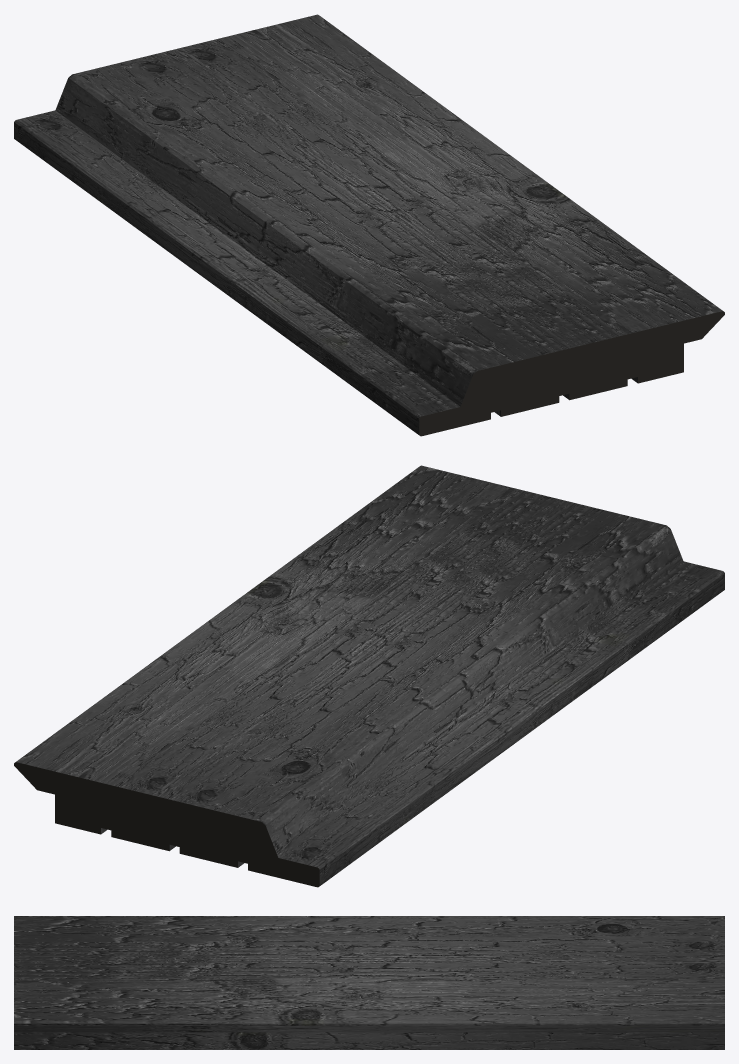
Rendered from spruce-facade-half-tenon-45-carbon.glb.
3 views of the same model, one above another, from view 1: azimuth 30°, elevation 25°; view 2: azimuth 150°, elevation 25°; view 3: azimuth 270°, elevation 25° (orthographic). The views are drawn at different scales.
Visible parts, largest first — view 1: Pusė_Špunto_45; view 2: Pusė_Špunto_45; view 3: Pusė_Špunto_45.
Boxes of the visible parts, box(x1,y1,x2,y2) form: Pusė_Špunto_45: box(14, 14, 724, 436); Pusė_Špunto_45: box(14, 465, 724, 887); Pusė_Špunto_45: box(14, 916, 724, 1049).
Size of the model in its own units: 0.0723 by 0.0117 by 0.166.
Materials: 3 (1 with a texture image).
